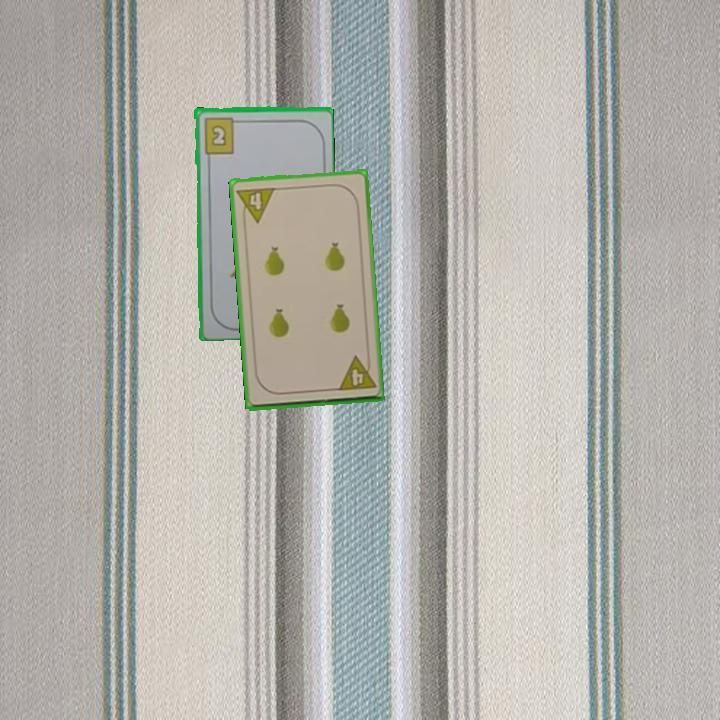2b: (200, 114, 242, 156)
4p: (233, 184, 278, 226), (334, 352, 378, 394)
